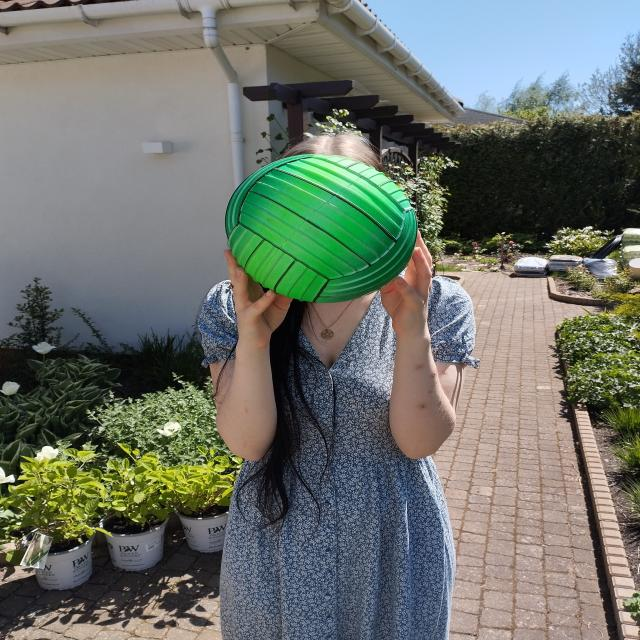zielona: (226, 155, 417, 305)
